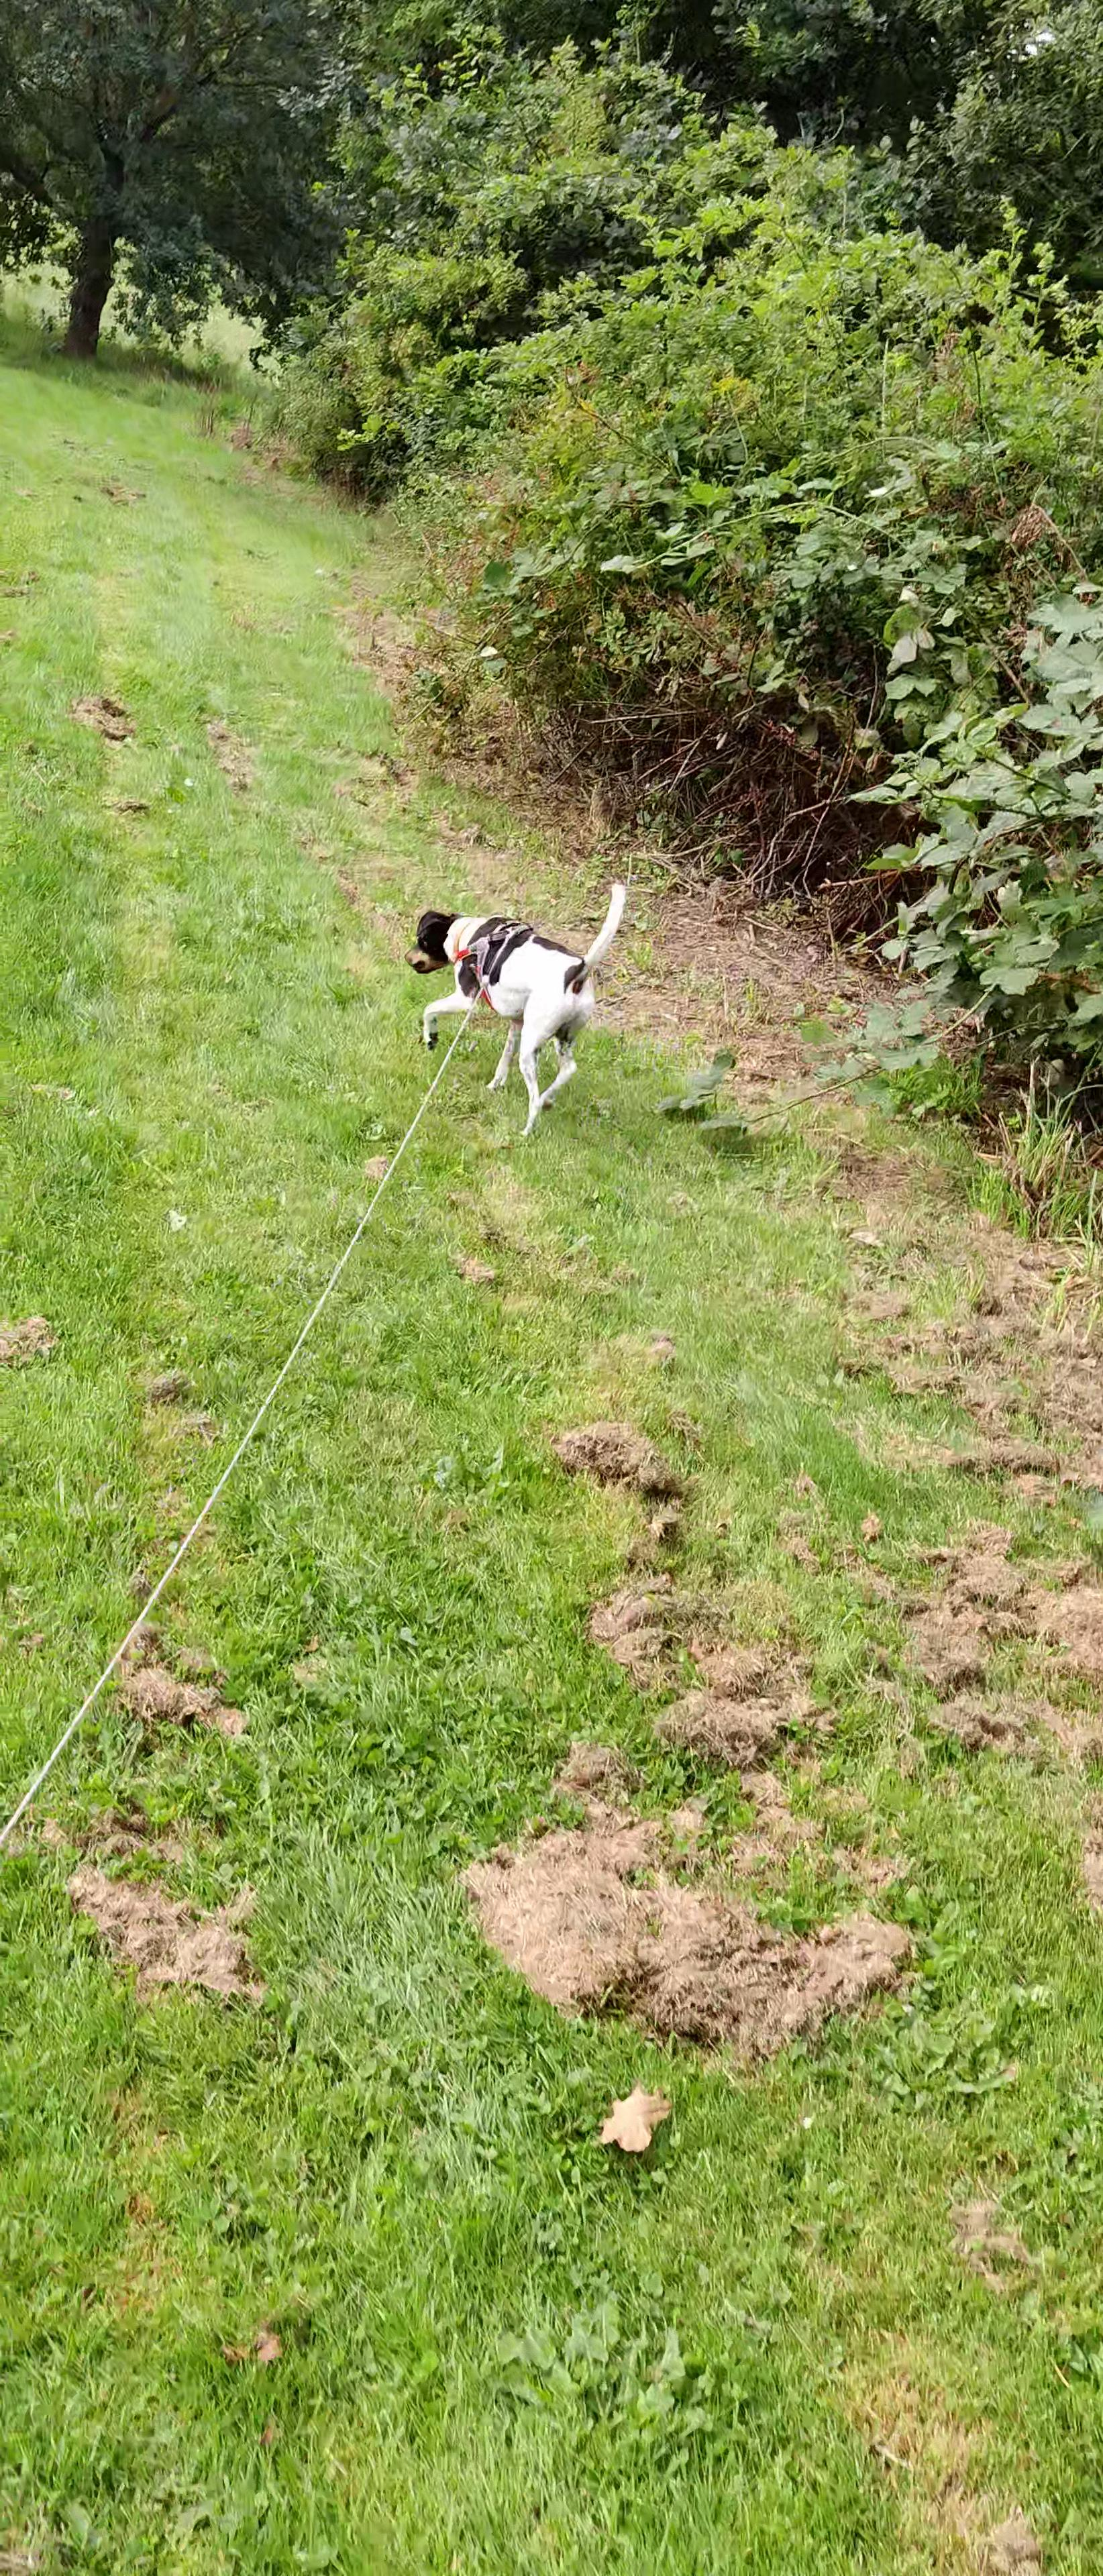Dog: (388, 866, 643, 1147)
